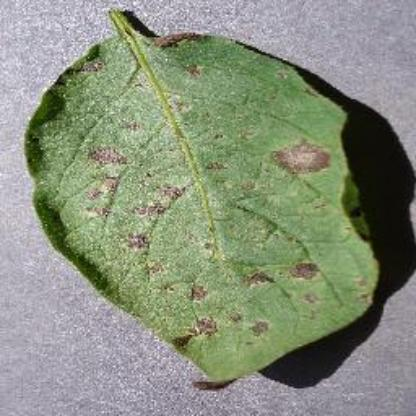Early-Blight: (23, 9, 383, 392)
